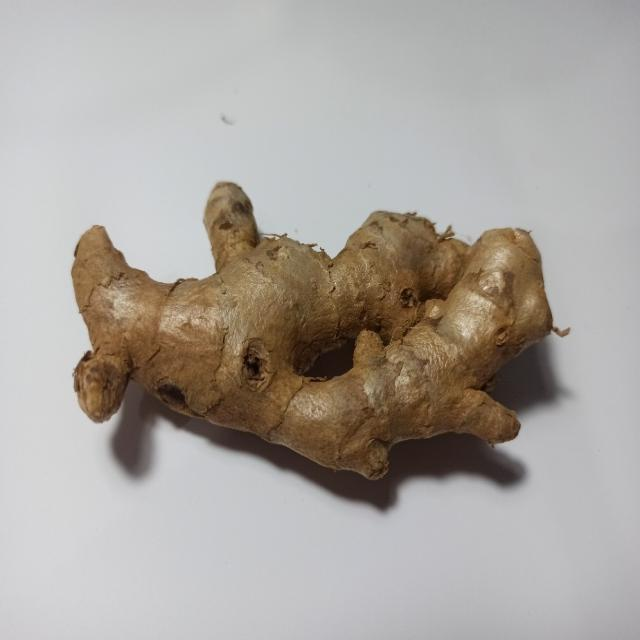ginger: (70, 180, 551, 482)
